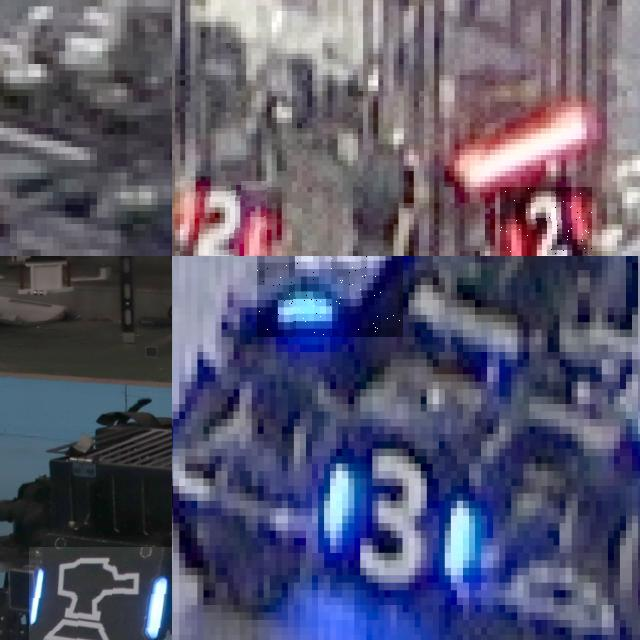B3: (318, 434, 469, 590), (257, 256, 402, 337)
Bs: (29, 547, 172, 640)
R2: (180, 181, 266, 256), (500, 187, 591, 256)
